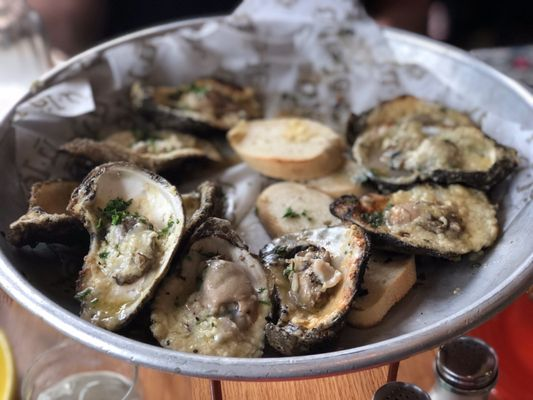pasta: (227, 117, 346, 183)
pizza: (19, 340, 136, 400)
sushi: (0, 77, 514, 391)
